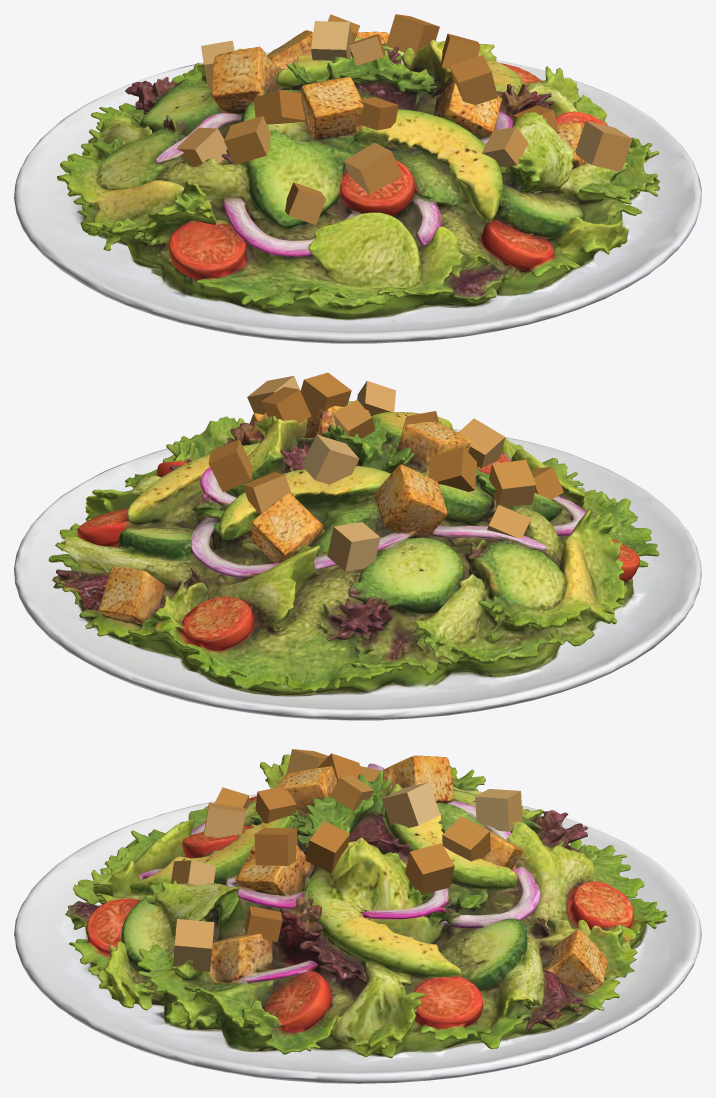
Rendered from ensalada.glb.
3 renders of one model, top to bottom at view 1: azimuth 30°, elevation 25°; view 2: azimuth 150°, elevation 25°; view 3: azimuth 270°, elevation 25°, orthographic.
Parts seen in each view (by area): view 1: tripo_node_c87f1970-6ee2-40a6-bad0-40dff9099fbd, crotones_2, crotones_1; view 2: tripo_node_c87f1970-6ee2-40a6-bad0-40dff9099fbd, crotones_2, crotones_1; view 3: tripo_node_c87f1970-6ee2-40a6-bad0-40dff9099fbd, crotones_1, crotones_2.
Part boxes in pixels (x1,y1,x2,y2): tripo_node_c87f1970-6ee2-40a6-bad0-40dff9099fbd: (14,30,701,343); crotones_2: (224,14,528,224); crotones_1: (176,14,632,171); tripo_node_c87f1970-6ee2-40a6-bad0-40dff9099fbd: (14,401,701,720); crotones_2: (208,372,563,507); crotones_1: (243,376,530,571); tripo_node_c87f1970-6ee2-40a6-bad0-40dff9099fbd: (14,754,701,1083); crotones_1: (172,753,522,971); crotones_2: (171,749,454,894).
Size of the model in its own units: 0.2692 by 0.0778 by 0.27.
2 materials, 2 textured.
